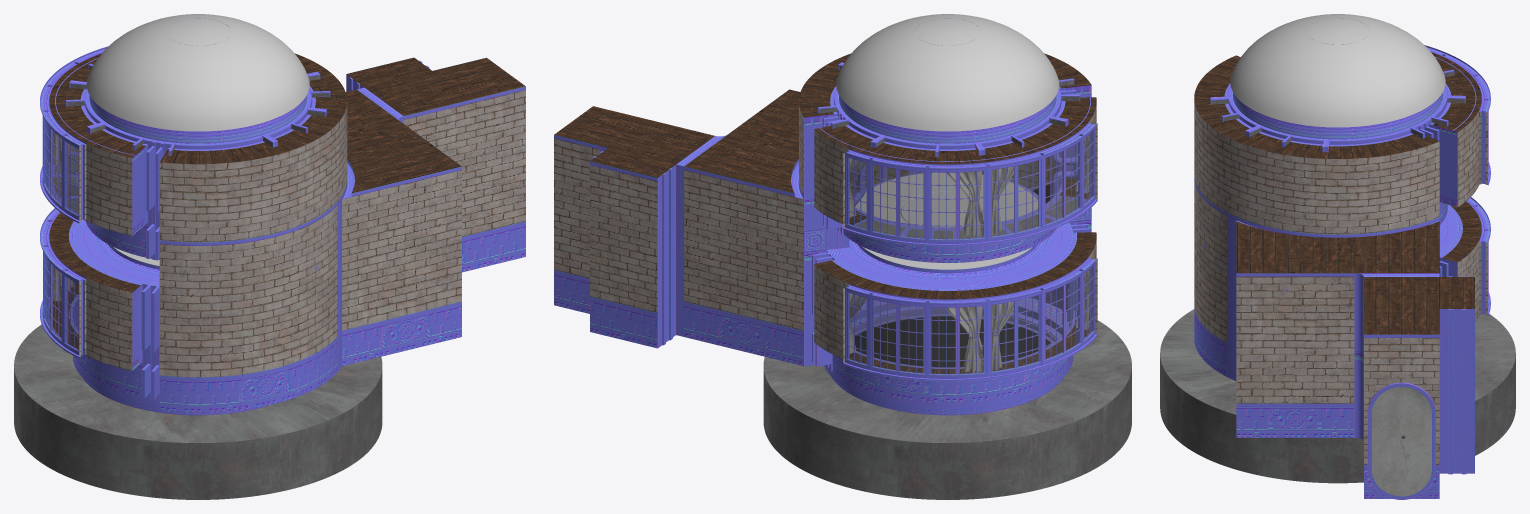
The model's file is mr009room001s001.fbx.
3 views of the same model, side by side, from view 1: azimuth 30°, elevation 25°; view 2: azimuth 150°, elevation 25°; view 3: azimuth 270°, elevation 25° (orthographic). The views are drawn at different scales.
Visible parts, largest first — view 1: mr009room001op001, mr009room001op002, mr009room001op003, mr009room001op005, mr009room001op004, mr009window011_p01, mr009window011_p02, mr009window009_p02, mr009window009_p01, mr008window005_Lp01, mr008window001_Lp01, mr008window005_Lp02 (+1 smaller); view 2: mr009room001op001, mr009room001op004, mr009room001op003, mr009room001op002, mr009room001op005, mr009room001tr001, mr009room001op006, mr008window003_Rp02, mr008window007_Rp02, mr008window004_Lp02, mr008window008_Lp02, mr008window003_Lp02 (+34 smaller); view 3: mr009room001op002, mr009room001op001, mr009room001op003, mr009room001op005, mr009room001op004, mra009door001op001.
Part boxes in pixels (left/top/right/bottom): mr009room001op001: left=14, top=200, right=382, bottom=499; mr009room001op002: left=40, top=46, right=347, bottom=260; mr009room001op003: left=342, top=89, right=461, bottom=366; mr009room001op005: left=66, top=14, right=330, bottom=156; mr009room001op004: left=346, top=57, right=525, bottom=272; mr009window011_p01: left=64, top=138, right=81, bottom=220; mr009window011_p02: left=66, top=142, right=78, bottom=214; mr009window009_p02: left=66, top=277, right=78, bottom=349; mr009window009_p01: left=64, top=273, right=81, bottom=355; mr008window005_Lp01: left=50, top=123, right=64, bottom=209; mr008window001_Lp01: left=50, top=260, right=64, bottom=344; mr008window005_Lp02: left=52, top=131, right=61, bottom=203; mr009room001op001: left=763, top=156, right=1131, bottom=499; mr009room001op004: left=554, top=106, right=726, bottom=348; mr009room001op003: left=684, top=89, right=908, bottom=365; mr009room001op002: left=799, top=53, right=1097, bottom=262; mr009room001op005: left=818, top=14, right=1080, bottom=157; mr009room001tr001: left=855, top=316, right=1050, bottom=367; mr009room001op006: left=855, top=172, right=1038, bottom=227; mr008window003_Rp02: left=932, top=307, right=955, bottom=373; mr008window007_Rp02: left=932, top=172, right=955, bottom=238; mr008window004_Lp02: left=900, top=305, right=922, bottom=372; mr008window008_Lp02: left=900, top=170, right=922, bottom=237; mr008window003_Lp02: left=960, top=306, right=983, bottom=373; mr009room001op002: left=1194, top=45, right=1490, bottom=237; mr009room001op001: left=1160, top=181, right=1515, bottom=483; mr009room001op003: left=1236, top=220, right=1439, bottom=437; mr009room001op005: left=1210, top=14, right=1465, bottom=152; mr009room001op004: left=1354, top=273, right=1474, bottom=499; mra009door001op001: left=1371, top=386, right=1431, bottom=496.
Bounding box in the file's own units: 925 × 692 × 587.
